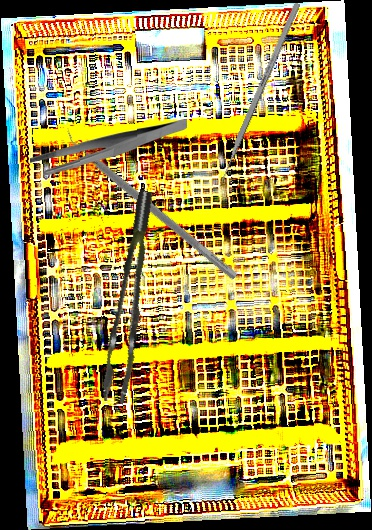Dressing Forceps: (29, 117, 188, 177)
Pusher: (212, 1, 301, 198)
Spatula Surgical: (58, 125, 244, 281)
Tissue Forceps: (81, 189, 182, 406)
